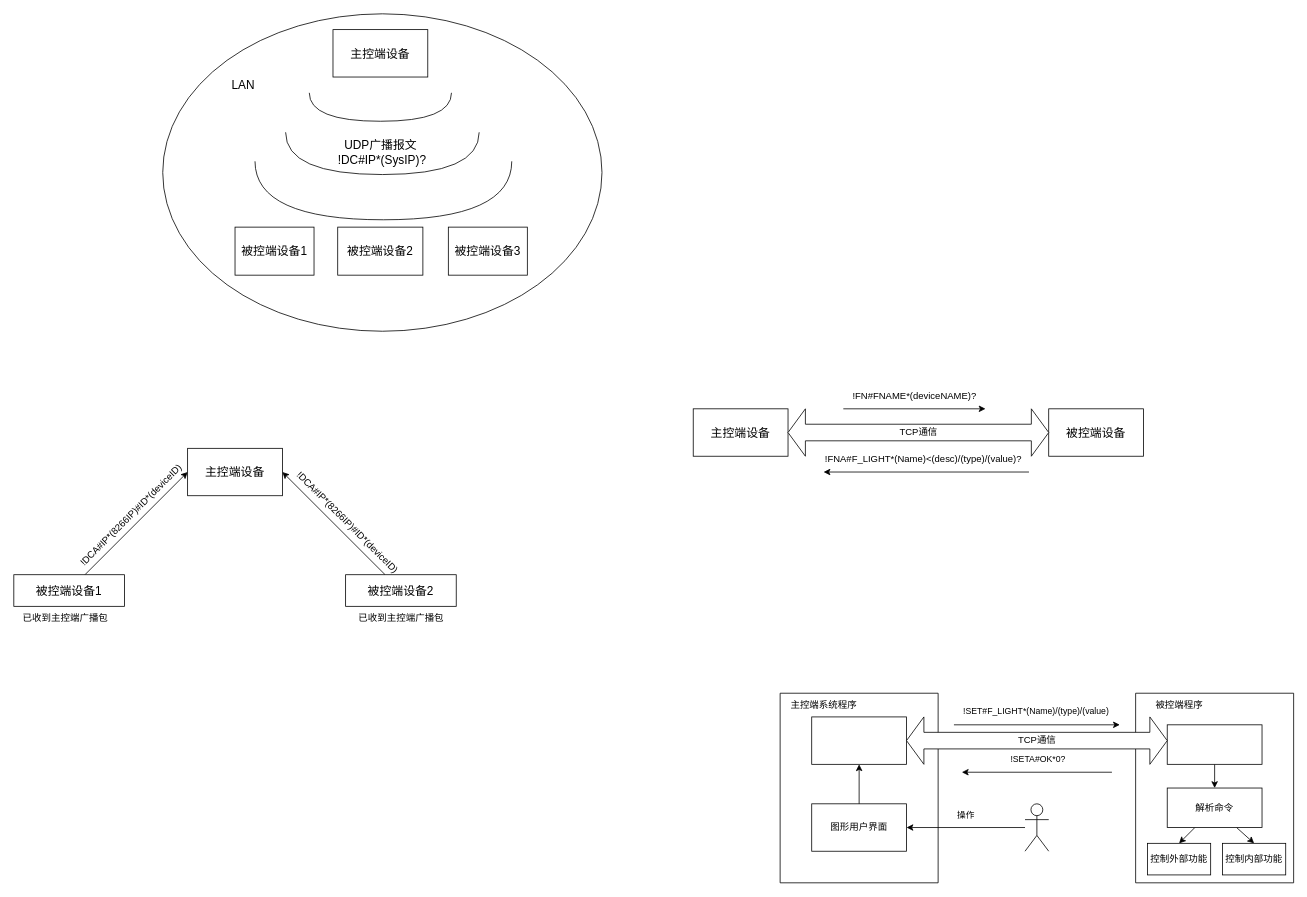
Some shapes in this 1307 by 897 pixel diagram are drawn without their labels. The shapes that lost their labels are listed below. From the top down, each one's centre as x and y in pixels, then its label:
the point at 859,740: 后端数据逻辑处理
the point at 1214,744: 侦听请求
the point at 1036,827: 用户
